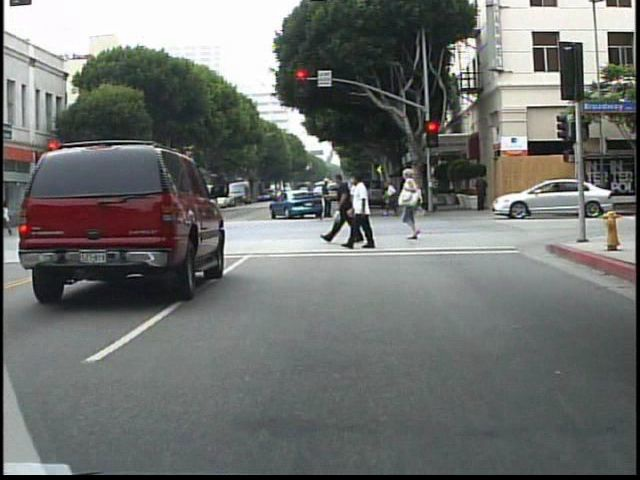person: (347, 171, 385, 251), (398, 169, 429, 244), (334, 169, 358, 249), (344, 174, 365, 221), (316, 175, 334, 223), (472, 169, 491, 211), (148, 185, 164, 232), (127, 187, 144, 230), (336, 180, 354, 218), (384, 178, 398, 219), (3, 199, 18, 236), (4, 197, 16, 239)
